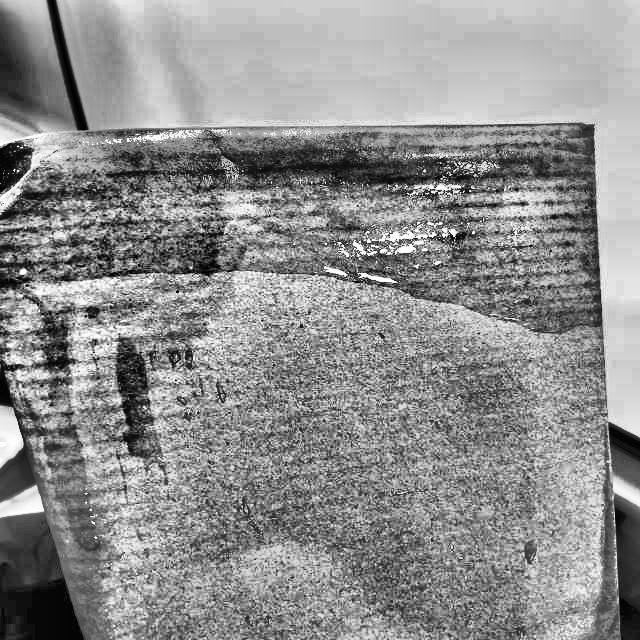box: (0, 119, 625, 639)
wet: (6, 112, 605, 307)
